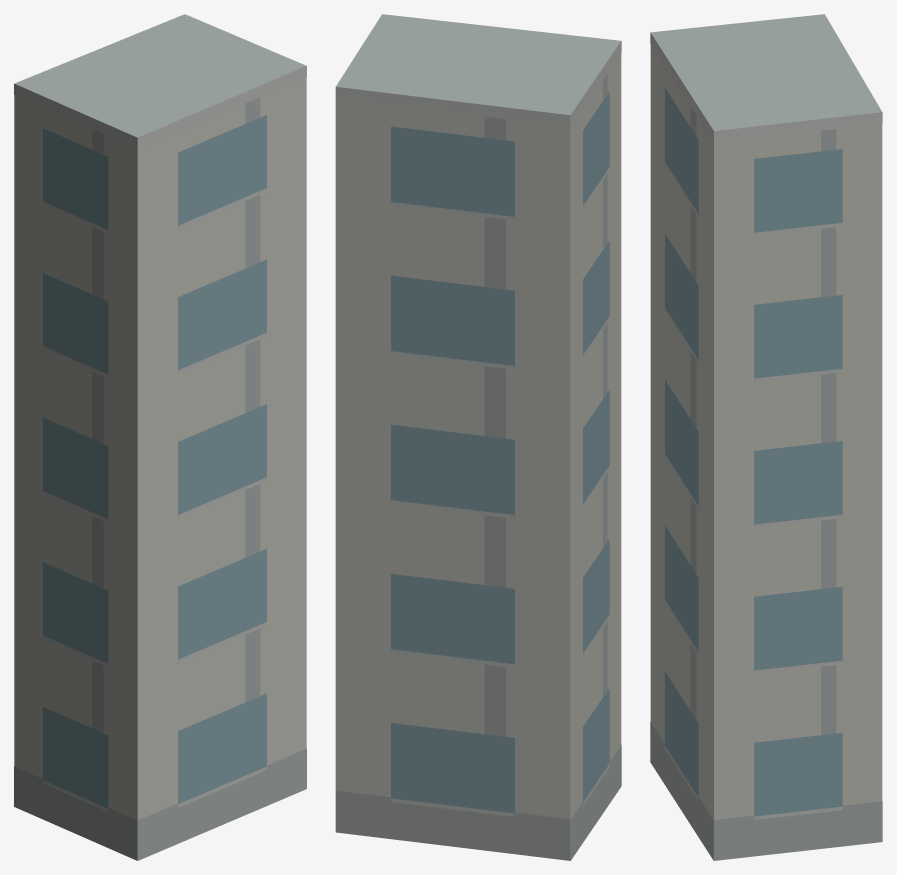
File: survey-upis-32588245.glb
3 views of the same model, side by side, from view 1: azimuth 30°, elevation 25°; view 2: azimuth 150°, elevation 25°; view 3: azimuth 270°, elevation 25° (orthographic). The views are drawn at different scales.
Parts seen in each view (by area): view 1: survey-upis-32588245.tmp; view 2: survey-upis-32588245.tmp; view 3: survey-upis-32588245.tmp.
Boxes of the visible parts, left/top/right/bottom form: survey-upis-32588245.tmp: left=14, top=14, right=306, bottom=860; survey-upis-32588245.tmp: left=335, top=14, right=621, bottom=860; survey-upis-32588245.tmp: left=650, top=14, right=882, bottom=860.
Size of the model in its own units: 5.25 by 15.25 by 4.4.
